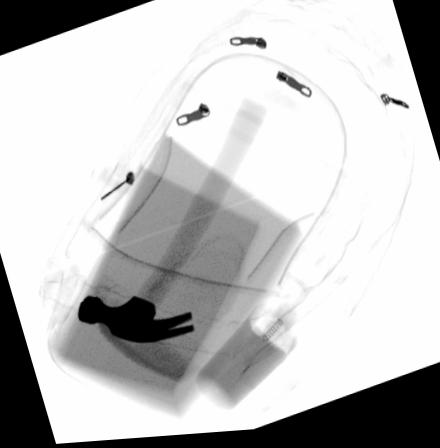Hammer: (76, 100, 270, 347)
